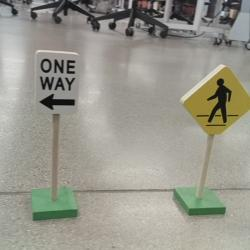one_way: (34, 50, 79, 114)
pedestrian_crossing: (180, 64, 250, 135)
